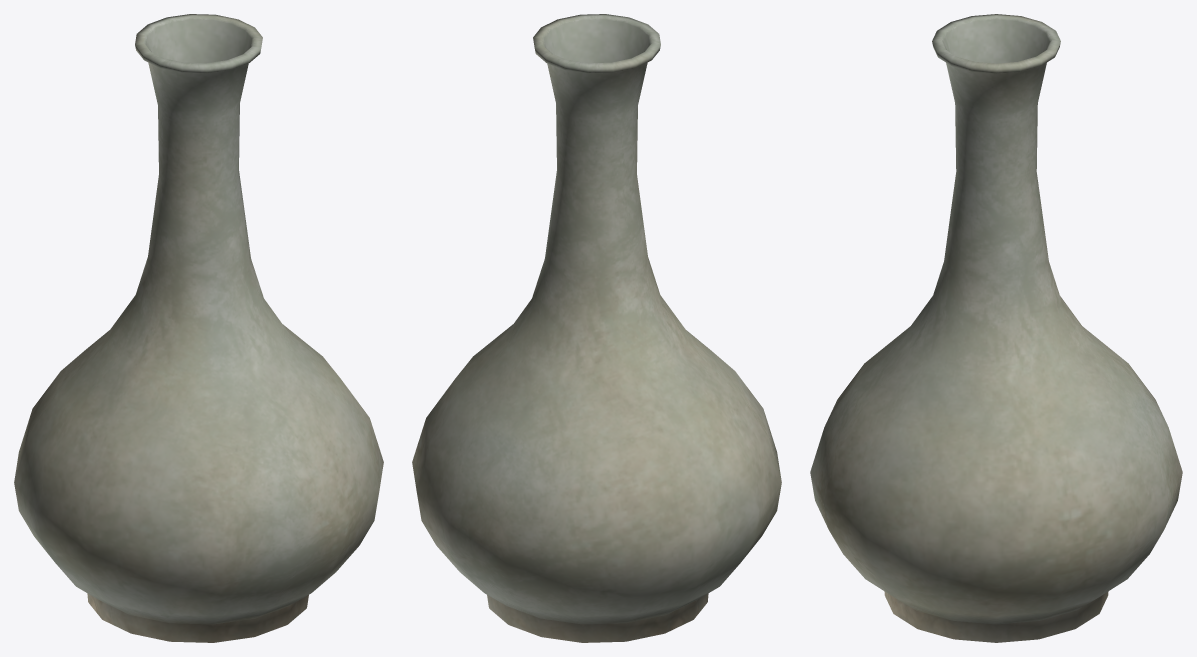
The model's file is mul.glb.
3 views of the same model, side by side, from view 1: azimuth 30°, elevation 25°; view 2: azimuth 150°, elevation 25°; view 3: azimuth 270°, elevation 25° (orthographic).
Parts seen in each view (by area): view 1: SM_Bottle; view 2: SM_Bottle; view 3: SM_Bottle.
Boxes of the visible parts, x1,y1,x2,y2 form: SM_Bottle: (14, 14, 383, 642); SM_Bottle: (412, 14, 781, 642); SM_Bottle: (810, 14, 1182, 642).
Size of the model in its own units: 0.1571 by 0.2587 by 0.1571.
1 material, 1 textured.
